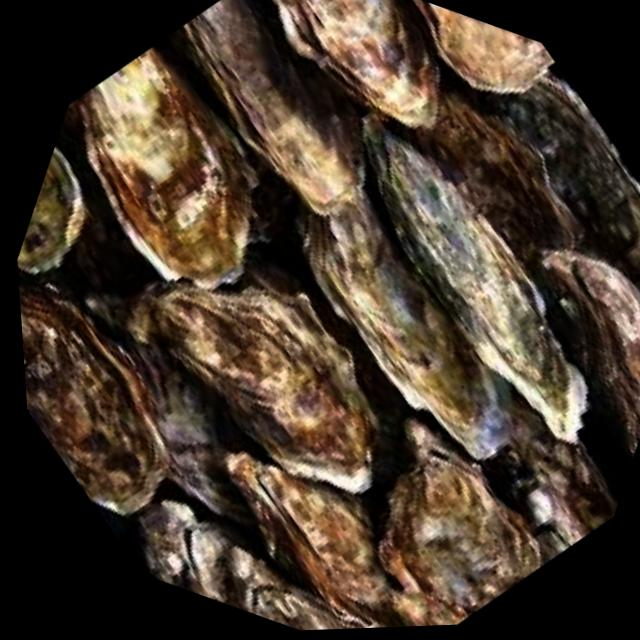Oyster-Closed: (362, 116, 587, 442), (77, 48, 263, 295), (172, 0, 364, 215), (500, 72, 640, 284), (417, 86, 584, 263), (225, 451, 391, 619), (271, 0, 440, 127), (17, 147, 86, 274)
Oyster-Indeterminate: (51, 267, 332, 558), (302, 189, 509, 459), (153, 284, 376, 493), (377, 417, 541, 627), (19, 286, 168, 515), (115, 481, 280, 616), (483, 396, 616, 561), (535, 250, 640, 454), (220, 531, 379, 630)
